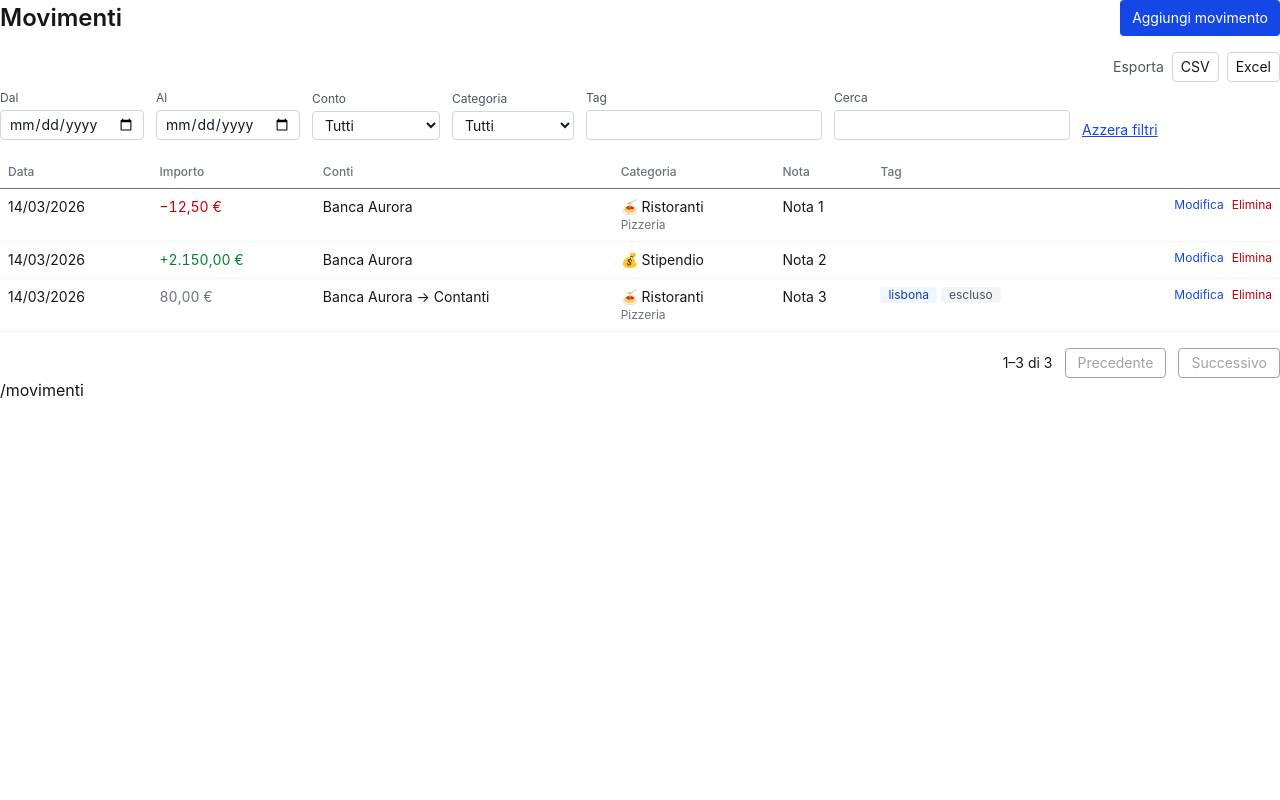
Test case: changing the ledger › deletes after confirmation, and cancelling sends nothing
Step 1. Click the button "Elimina" in the row of "+2.150,00 €" → (1252, 258), box [1232,250,1272,266]
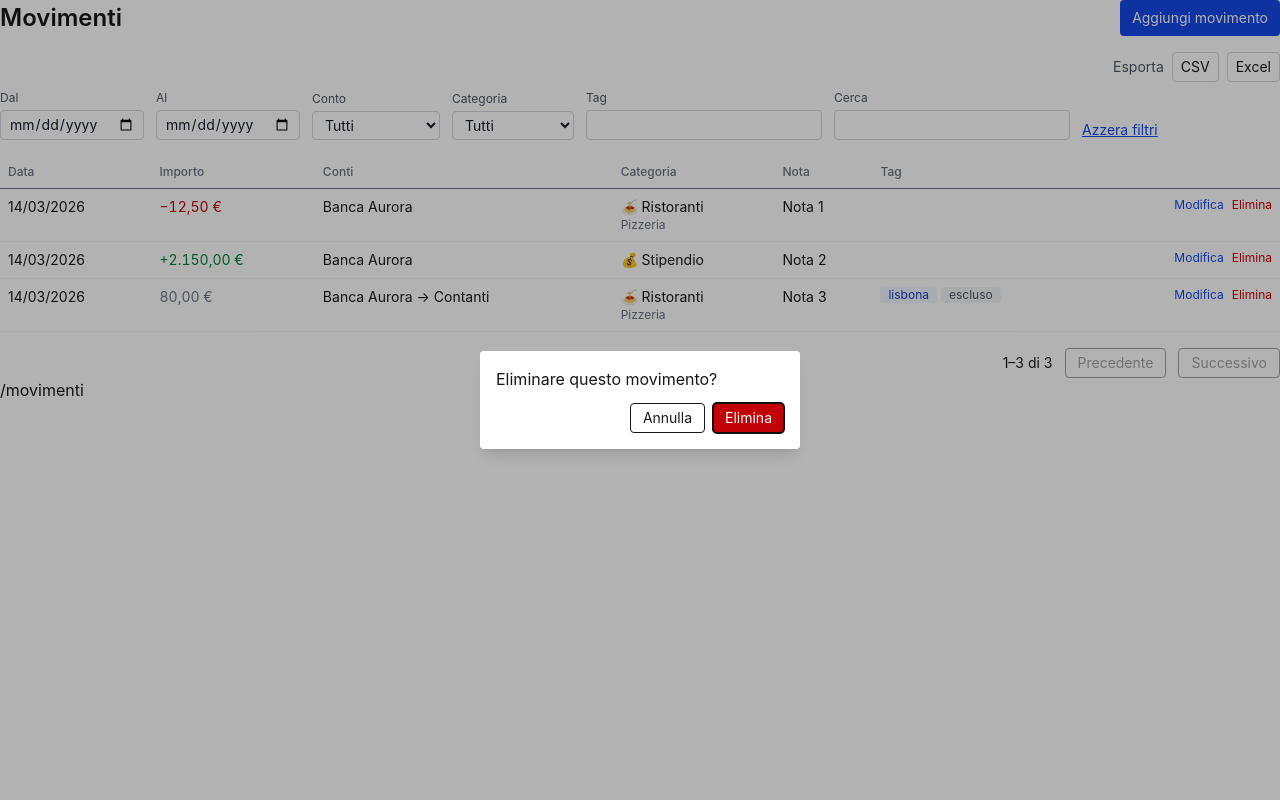
expect the text "Eliminare questo movimento?" is shown: met, box [496,369,717,389]
Step 2. Click the button "Annulla" → (667, 418), box [630,403,705,433]
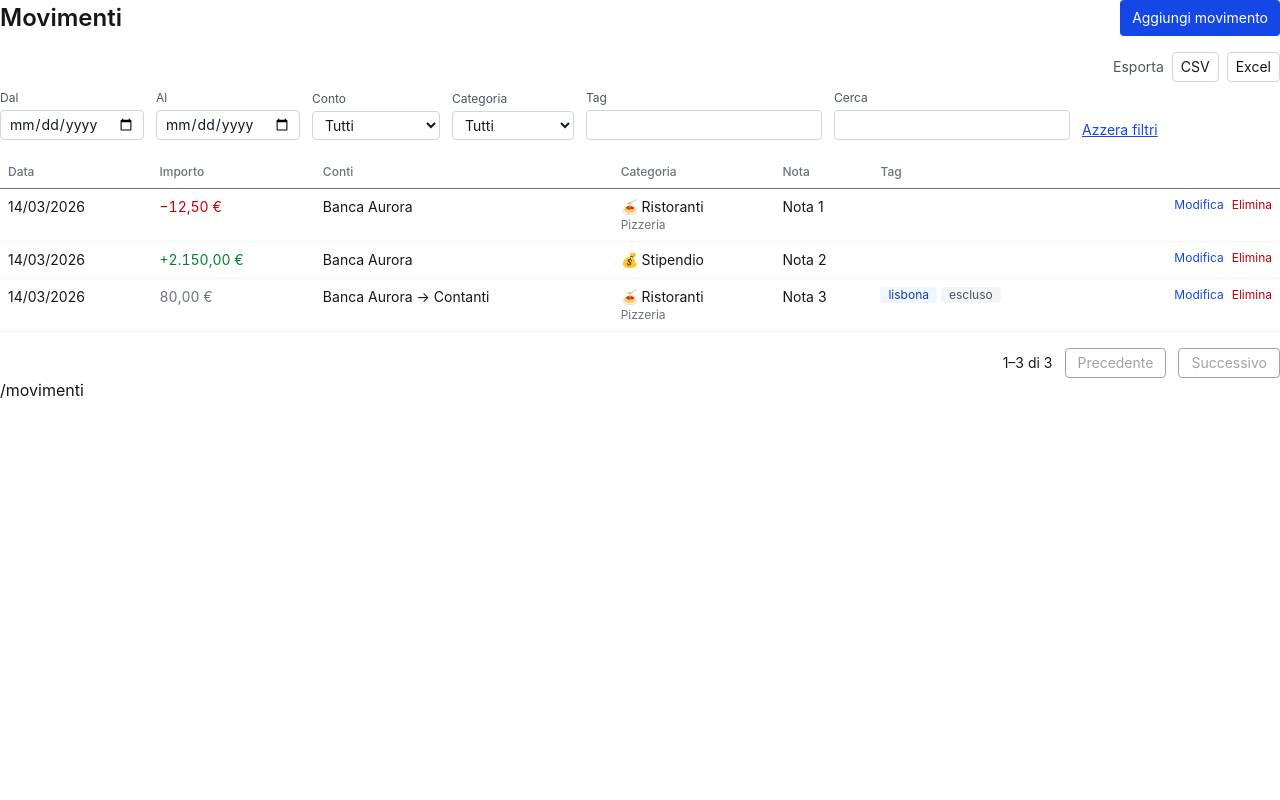
expect the dialog is gone: met
Step 3. Click the button "Elimina" in the row of "+2.150,00 €" → (1252, 258), box [1232,250,1272,266]
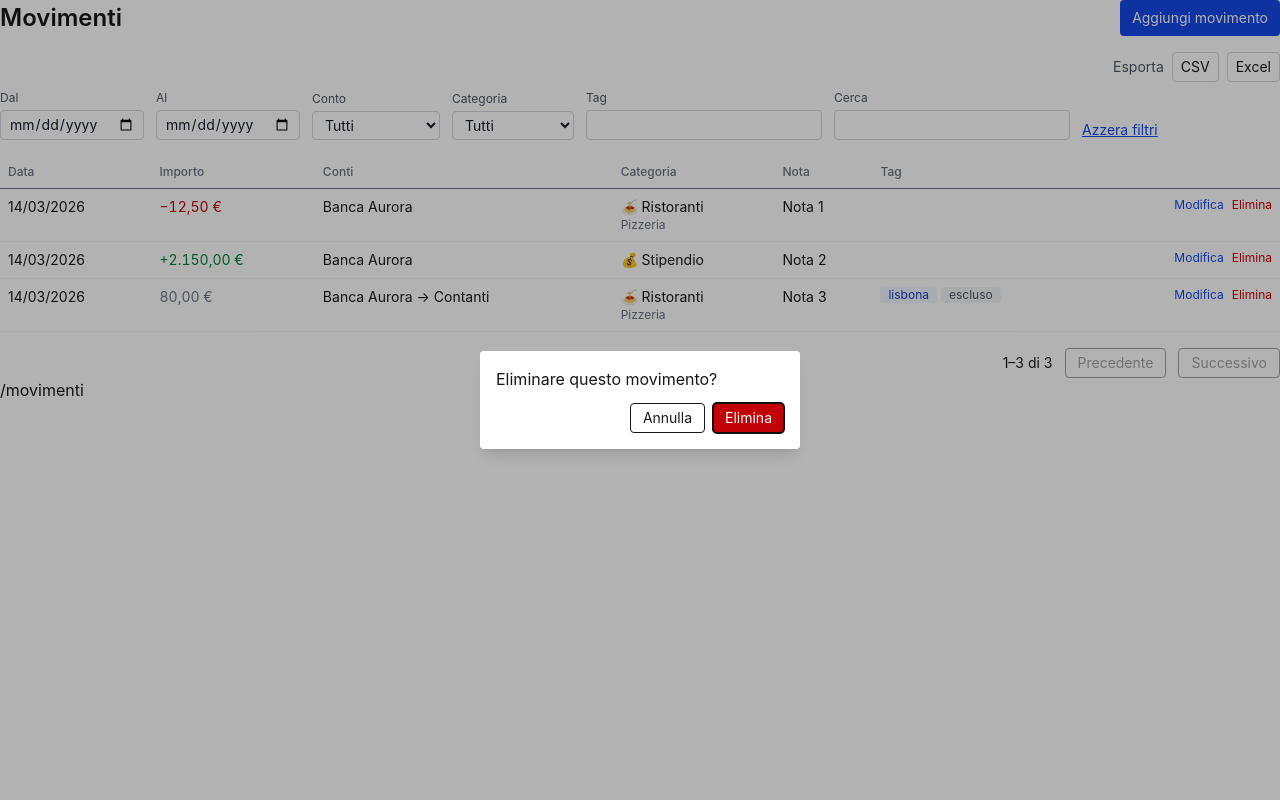
Step 4. Click the button "Elimina" → (748, 418), box [713,403,784,433]
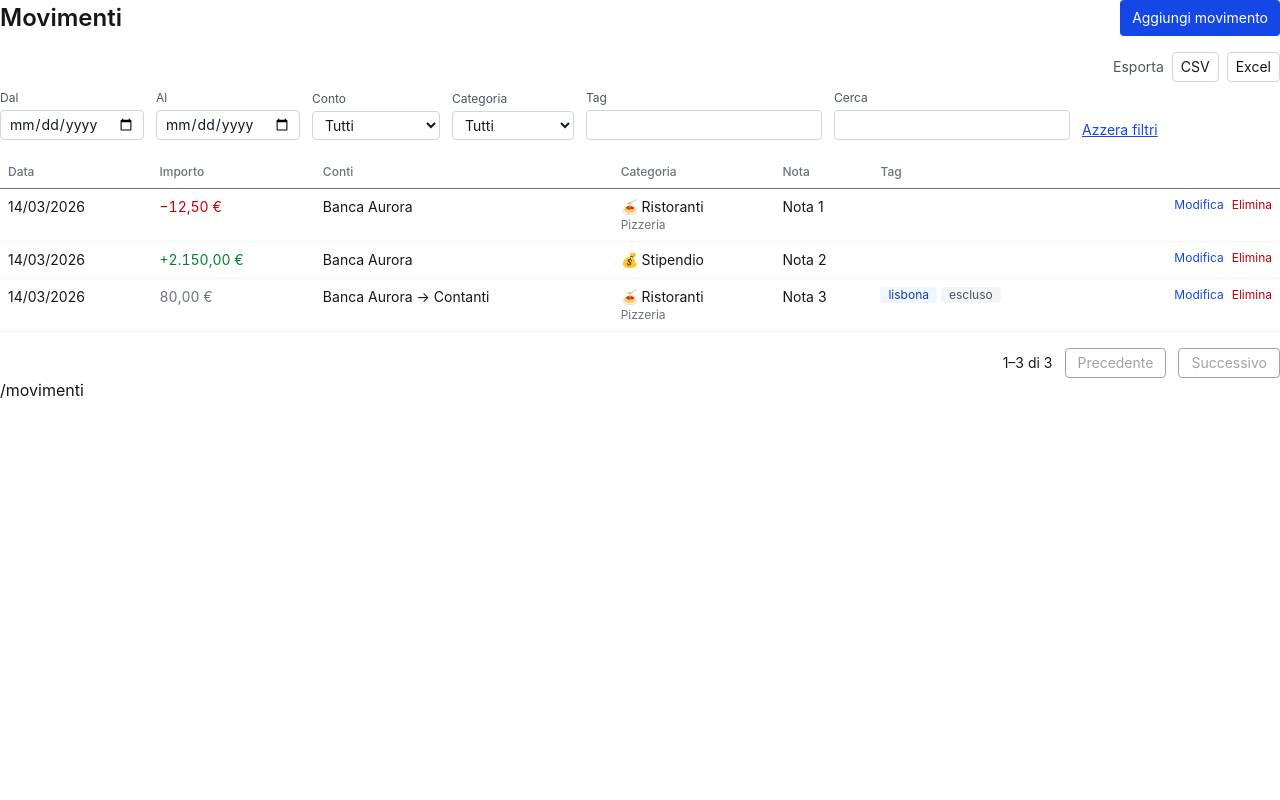
expect the dialog is gone: met
